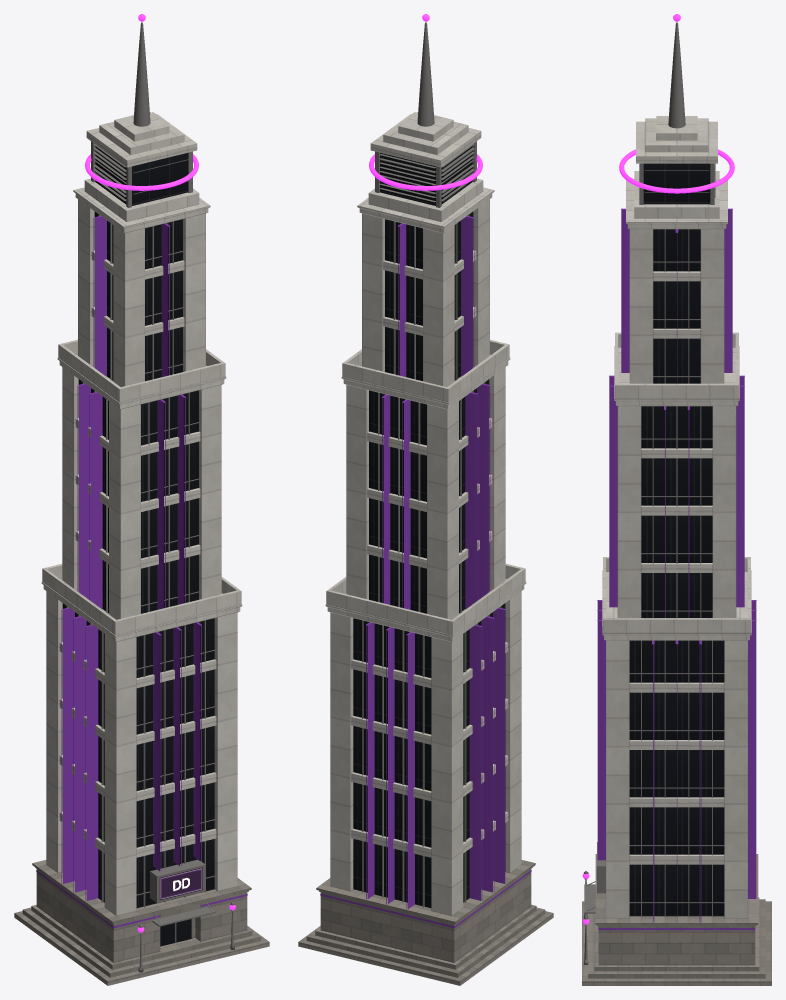
The model's file is s07-divine-dao.glb.
3 renders of one model, left to right at view 1: azimuth 30°, elevation 25°; view 2: azimuth 150°, elevation 25°; view 3: azimuth 270°, elevation 25°, orthographic.
Parts seen in each view (by area): view 1: Landmark · Divine.DAO (Series 7); view 2: Landmark · Divine.DAO (Series 7); view 3: Landmark · Divine.DAO (Series 7).
Part boxes in pixels (box(x1,y1,x2,y2)): Landmark · Divine.DAO (Series 7): box(14, 14, 269, 985); Landmark · Divine.DAO (Series 7): box(298, 14, 553, 985); Landmark · Divine.DAO (Series 7): box(582, 14, 771, 985).
Bounding box in the file's own units: 12 × 65 × 12.
Materials: 7 (4 with a texture image).
